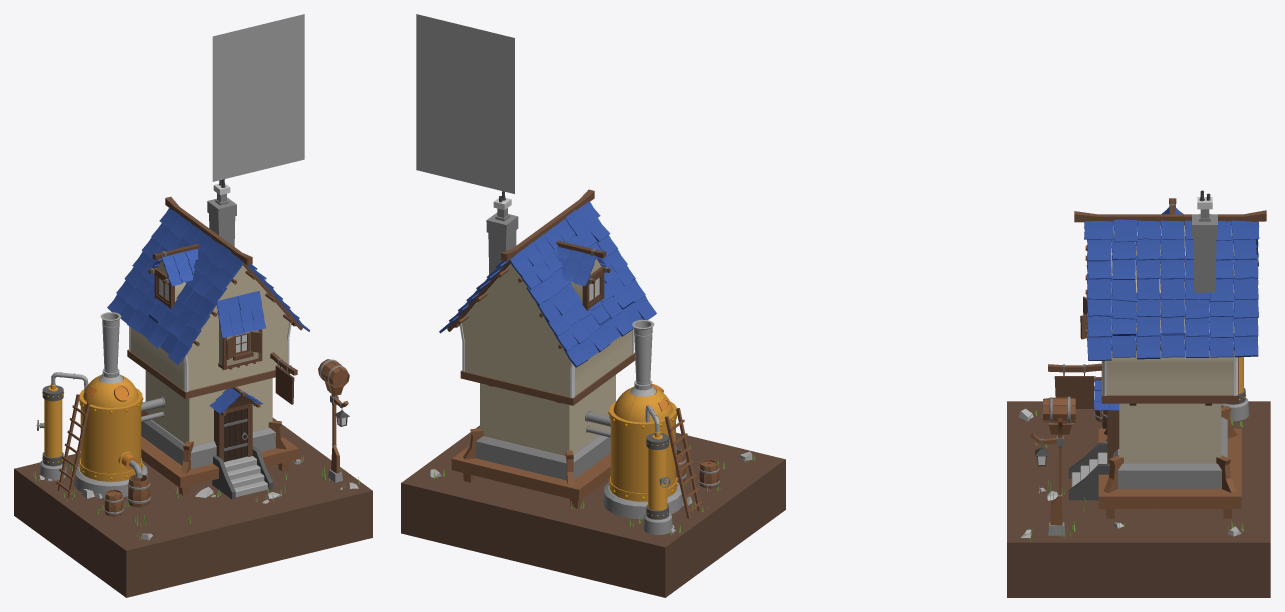
Rendered from Concept.fbx.
3 renders of one model, left to right at view 1: azimuth 30°, elevation 25°; view 2: azimuth 150°, elevation 25°; view 3: azimuth 270°, elevation 25°, orthographic. The views are drawn at different scales.
Parts seen in each view (by area): view 1: polySurface627, pPlane1, polySurface973, polySurface654, polySurface731, polySurface655, polySurface661, polySurface659, polySurface848, polySurface736, polySurface640, polySurface643 (+18 smaller); view 2: polySurface627, pPlane1, polySurface973, polySurface654, polySurface655, polySurface731, polySurface659, polySurface661, polySurface736, polySurface640, polySurface643, polySurface704 (+7 smaller); view 3: polySurface627, polySurface967, polySurface655, polySurface654, polySurface661, polySurface659, polySurface640, polySurface643, polySurface892, polySurface692, polySurface656, polySurface1023 (+1 smaller).
Boxes of the visible parts, left/top/right/bottom form: polySurface627: left=14, top=418, right=372, bottom=597; pPlane1: left=212, top=14, right=304, bottom=181; polySurface973: left=107, top=208, right=243, bottom=364; polySurface654: left=130, top=265, right=289, bottom=390; polySurface731: left=79, top=388, right=142, bottom=481; polySurface655: left=145, top=370, right=272, bottom=445; polySurface661: left=141, top=436, right=298, bottom=487; polySurface659: left=141, top=419, right=275, bottom=468; polySurface848: left=216, top=291, right=265, bottom=337; polySurface736: left=42, top=383, right=63, bottom=466; polySurface640: left=207, top=183, right=236, bottom=246; polySurface643: left=127, top=349, right=290, bottom=399; polySurface627: left=401, top=425, right=785, bottom=597; pPlane1: left=416, top=14, right=514, bottom=193; polySurface973: left=509, top=201, right=656, bottom=367; polySurface654: left=462, top=263, right=632, bottom=396; polySurface655: left=480, top=375, right=615, bottom=455; polySurface731: left=609, top=401, right=677, bottom=501; polySurface659: left=476, top=427, right=610, bottom=480; polySurface661: left=451, top=445, right=610, bottom=500; polySurface736: left=646, top=431, right=668, bottom=519; polySurface640: left=486, top=198, right=518, bottom=274; polySurface643: left=460, top=352, right=635, bottom=405; polySurface704: left=630, top=319, right=656, bottom=396; polySurface627: left=1007, top=401, right=1270, bottom=597; polySurface967: left=1084, top=219, right=1259, bottom=360; polySurface655: left=1119, top=403, right=1221, bottom=463; polySurface654: left=1106, top=225, right=1234, bottom=395; polySurface661: left=1098, top=428, right=1241, bottom=508; polySurface659: left=1113, top=417, right=1227, bottom=488; polySurface640: left=1192, top=197, right=1217, bottom=300; polySurface643: left=1101, top=357, right=1238, bottom=403; polySurface892: left=1074, top=210, right=1266, bottom=225; polySurface692: left=1068, top=442, right=1109, bottom=500; polySurface656: left=1103, top=406, right=1237, bottom=492; polySurface1023: left=1054, top=376, right=1093, bottom=408.
Size of the model in its own units: 19.78 by 33.2 by 25.44.
